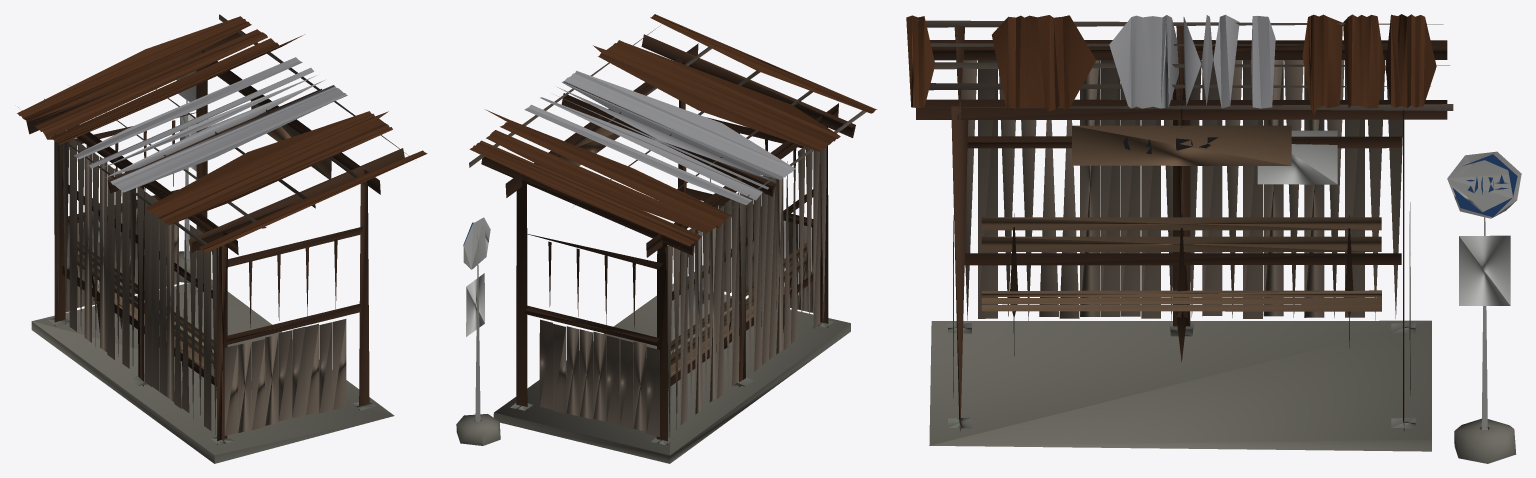
Rendered from SM_BusStop.glb.
3 views of the same model, side by side, from view 1: azimuth 30°, elevation 25°; view 2: azimuth 150°, elevation 25°; view 3: azimuth 270°, elevation 25° (orthographic). The views are drawn at different scales.
Visible parts, largest first — view 1: SM_BusStop; view 2: SM_BusStop; view 3: SM_BusStop.
Part boxes in pixels (x1=…): SM_BusStop: x1=17, y1=14, x2=427, y2=463; SM_BusStop: x1=456, y1=14, x2=877, y2=463; SM_BusStop: x1=906, y1=14, x2=1521, y2=463.
Bounding box in the file's own units: 3.06 × 3.18 × 4.77.
